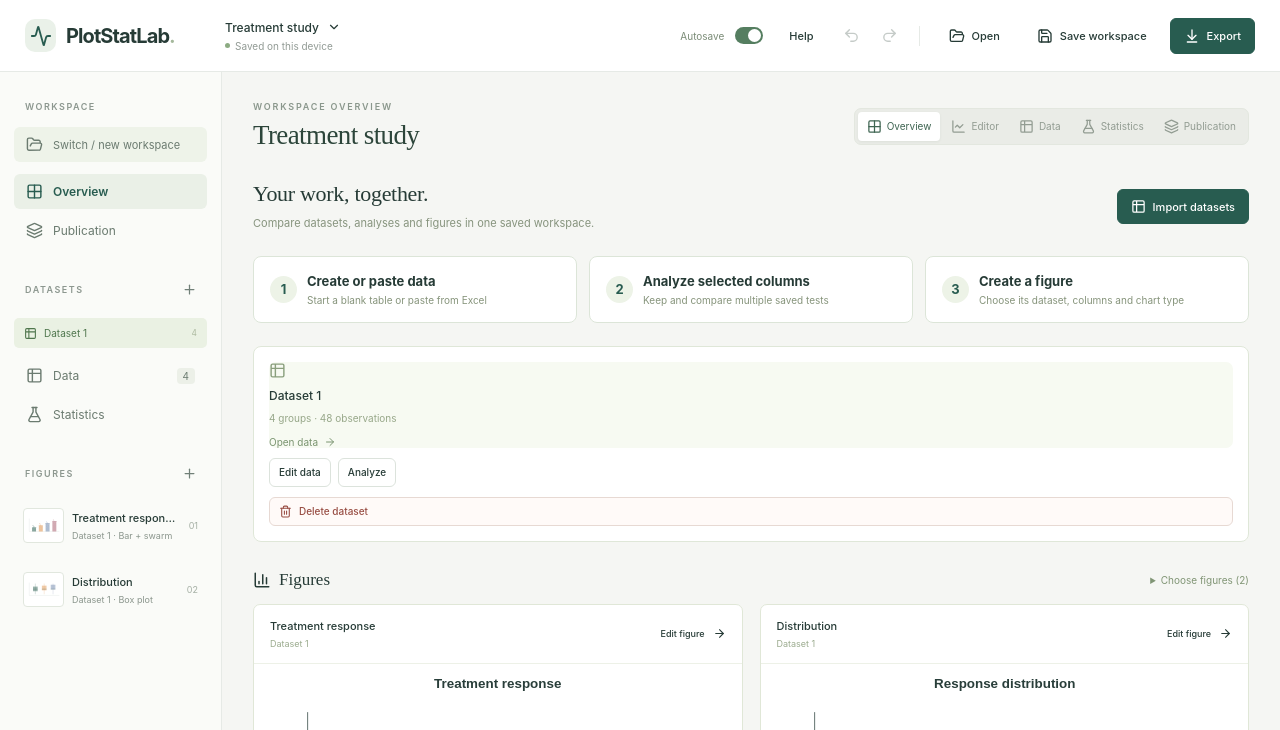
data input accepts negative decimals without replacing intermediate typing with numbers
Later steps or results of the test are not shown.
Click the button "Treatment response Dataset 1 · Bar + swarm 01" at x=110, y=526, box [14, 496, 207, 555]
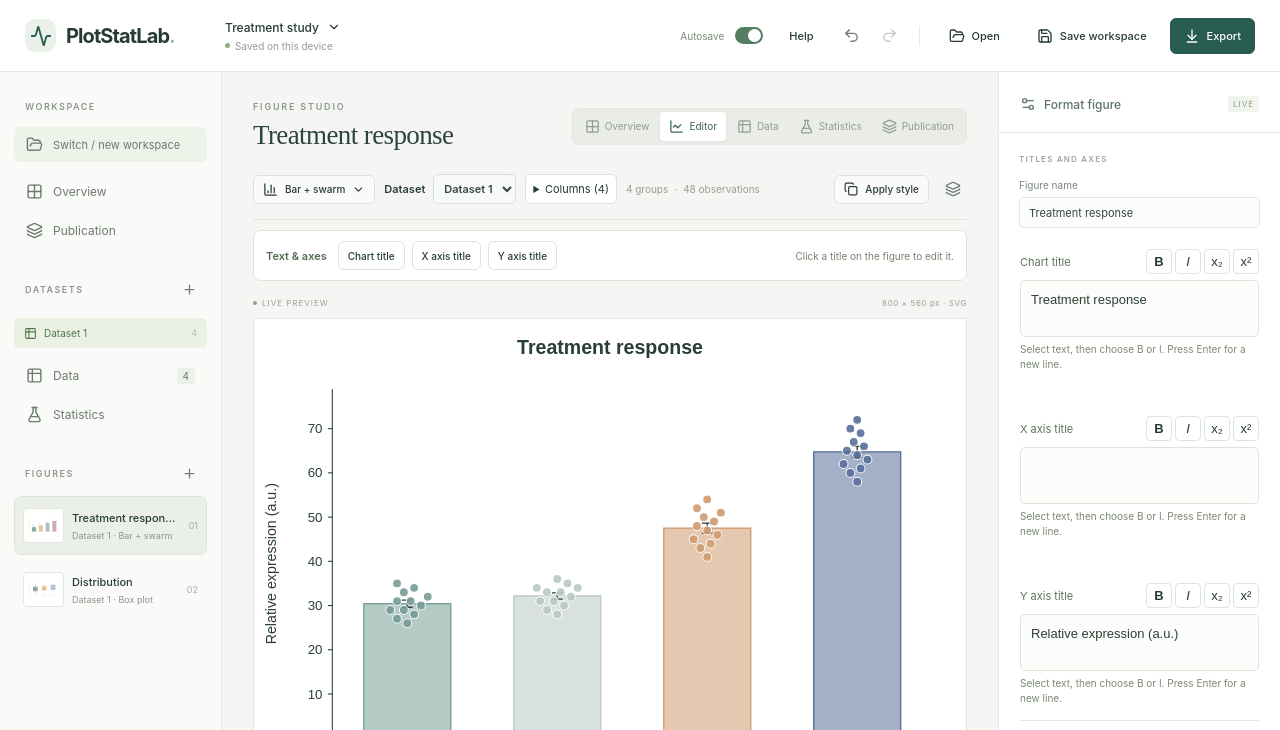
Click the button "Data" at x=758, y=126, box [728, 112, 788, 140]
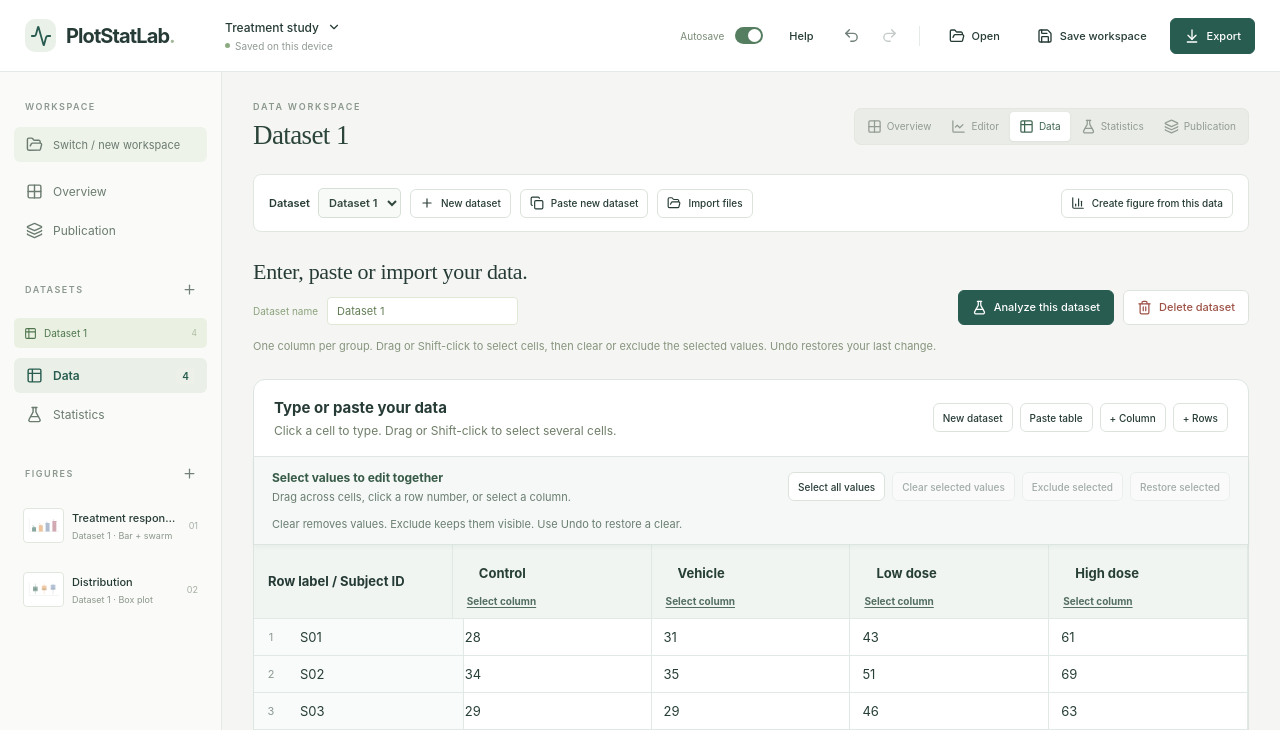
Expected: the field named "Control, row 1" is shown, [453, 619, 651, 655]
